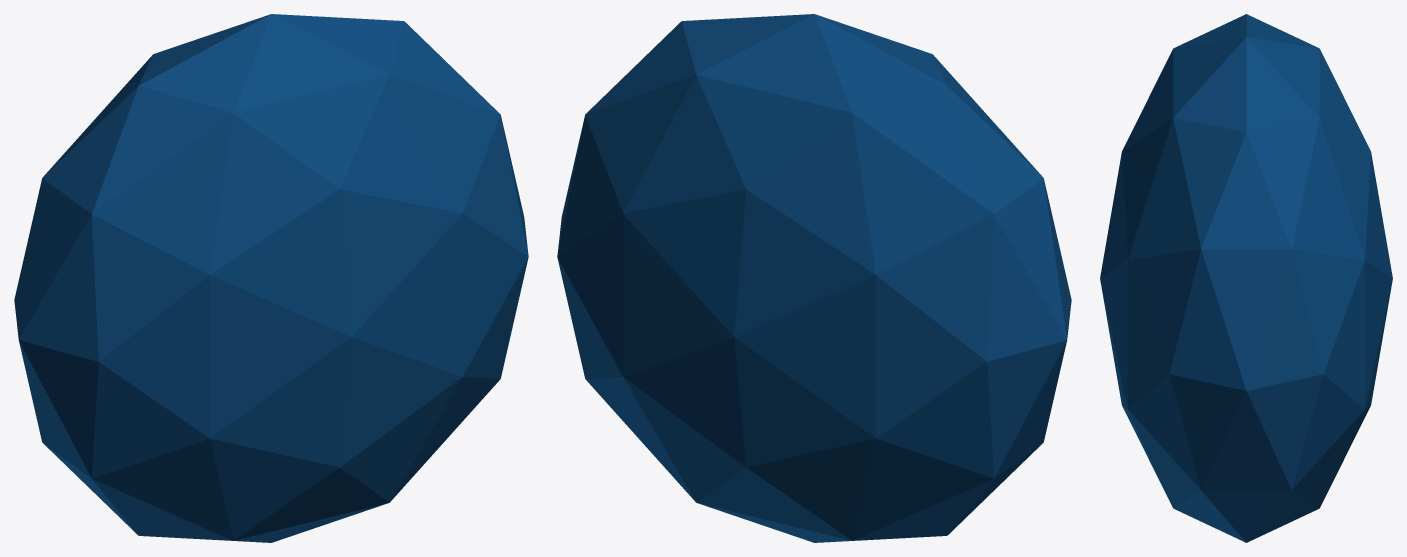
File: 05_dye_liquid_or_reflection_pool.glb
3 renders of one model, left to right at view 1: azimuth 30°, elevation 25°; view 2: azimuth 150°, elevation 25°; view 3: azimuth 270°, elevation 25°, orthographic. The views are drawn at different scales.
Visible parts, largest first — view 1: starfield_dome_proxy; view 2: starfield_dome_proxy; view 3: starfield_dome_proxy.
Boxes of the visible parts, box(x1,y1,x2,y2) form: starfield_dome_proxy: box(14, 14, 528, 542); starfield_dome_proxy: box(557, 14, 1071, 542); starfield_dome_proxy: box(1100, 14, 1392, 542).
Size of the model in its own units: 2.2 by 2.2 by 1.21.
